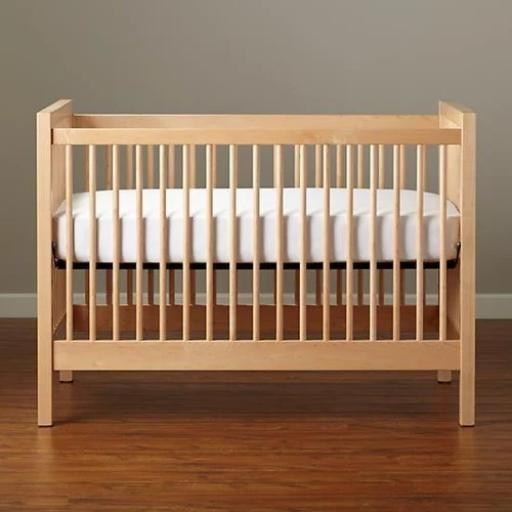crib: (37, 101, 475, 424)
